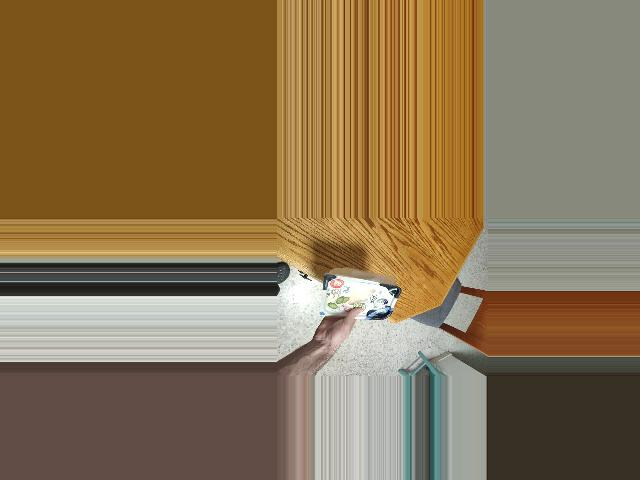cheese: (323, 272, 396, 328)
